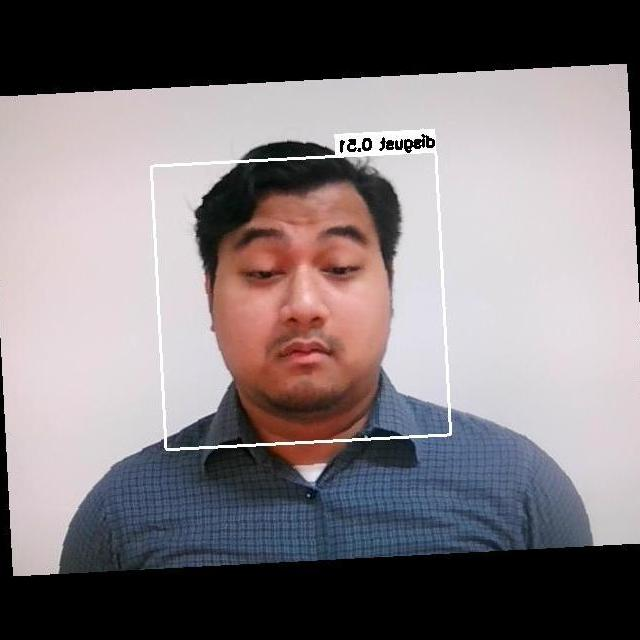Fear: (200, 206, 414, 387)
